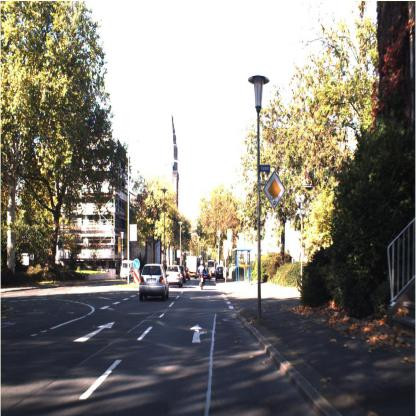mandatory: (130, 254, 142, 272)
other: (264, 164, 286, 211)
